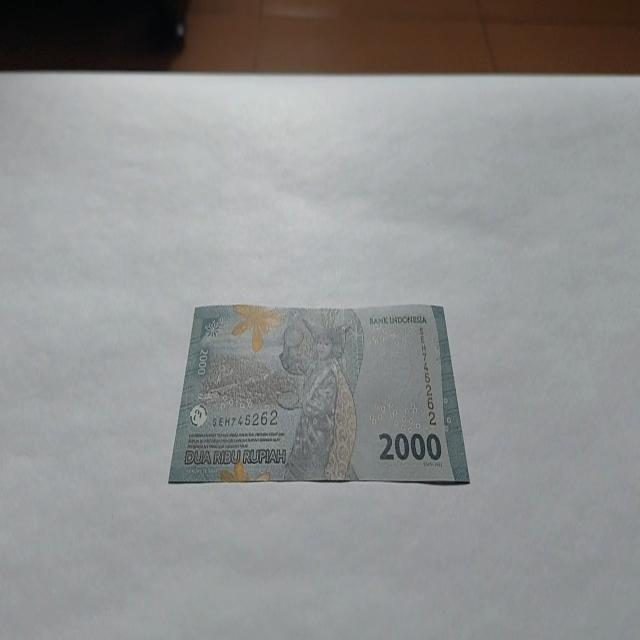dua ribu rupiah: (168, 300, 470, 487)
